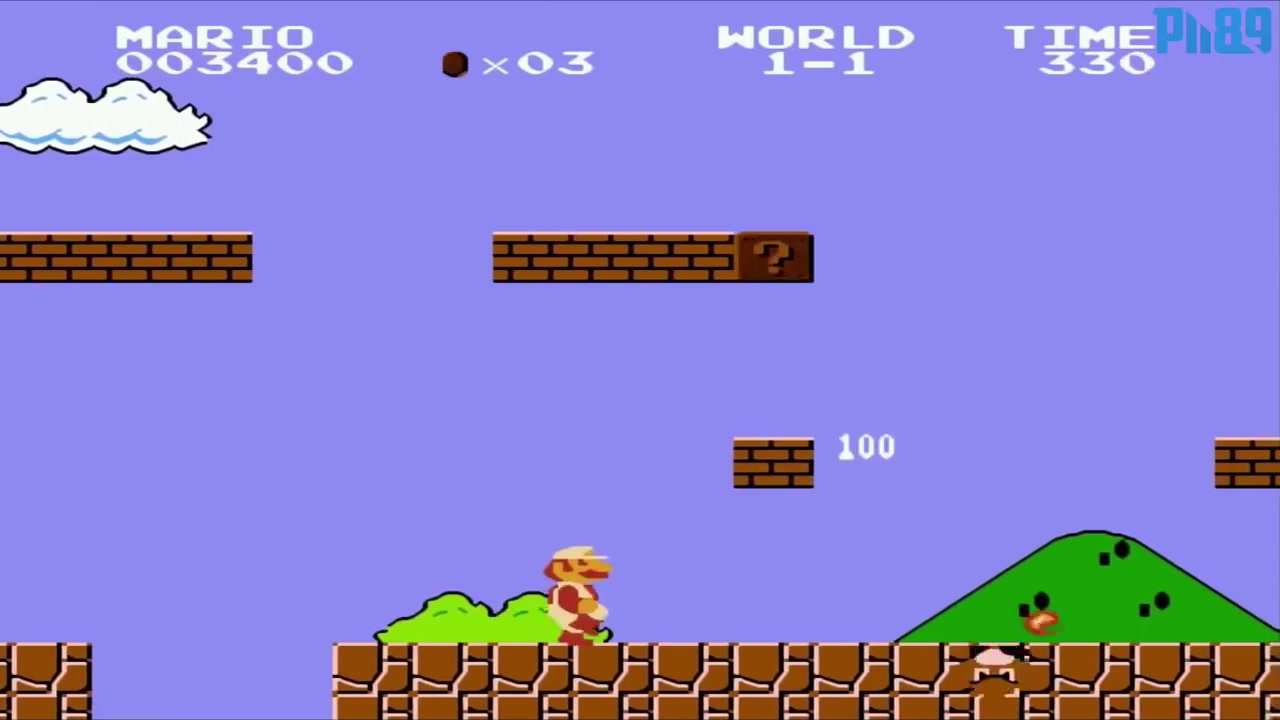mario: (529, 540, 614, 648)
